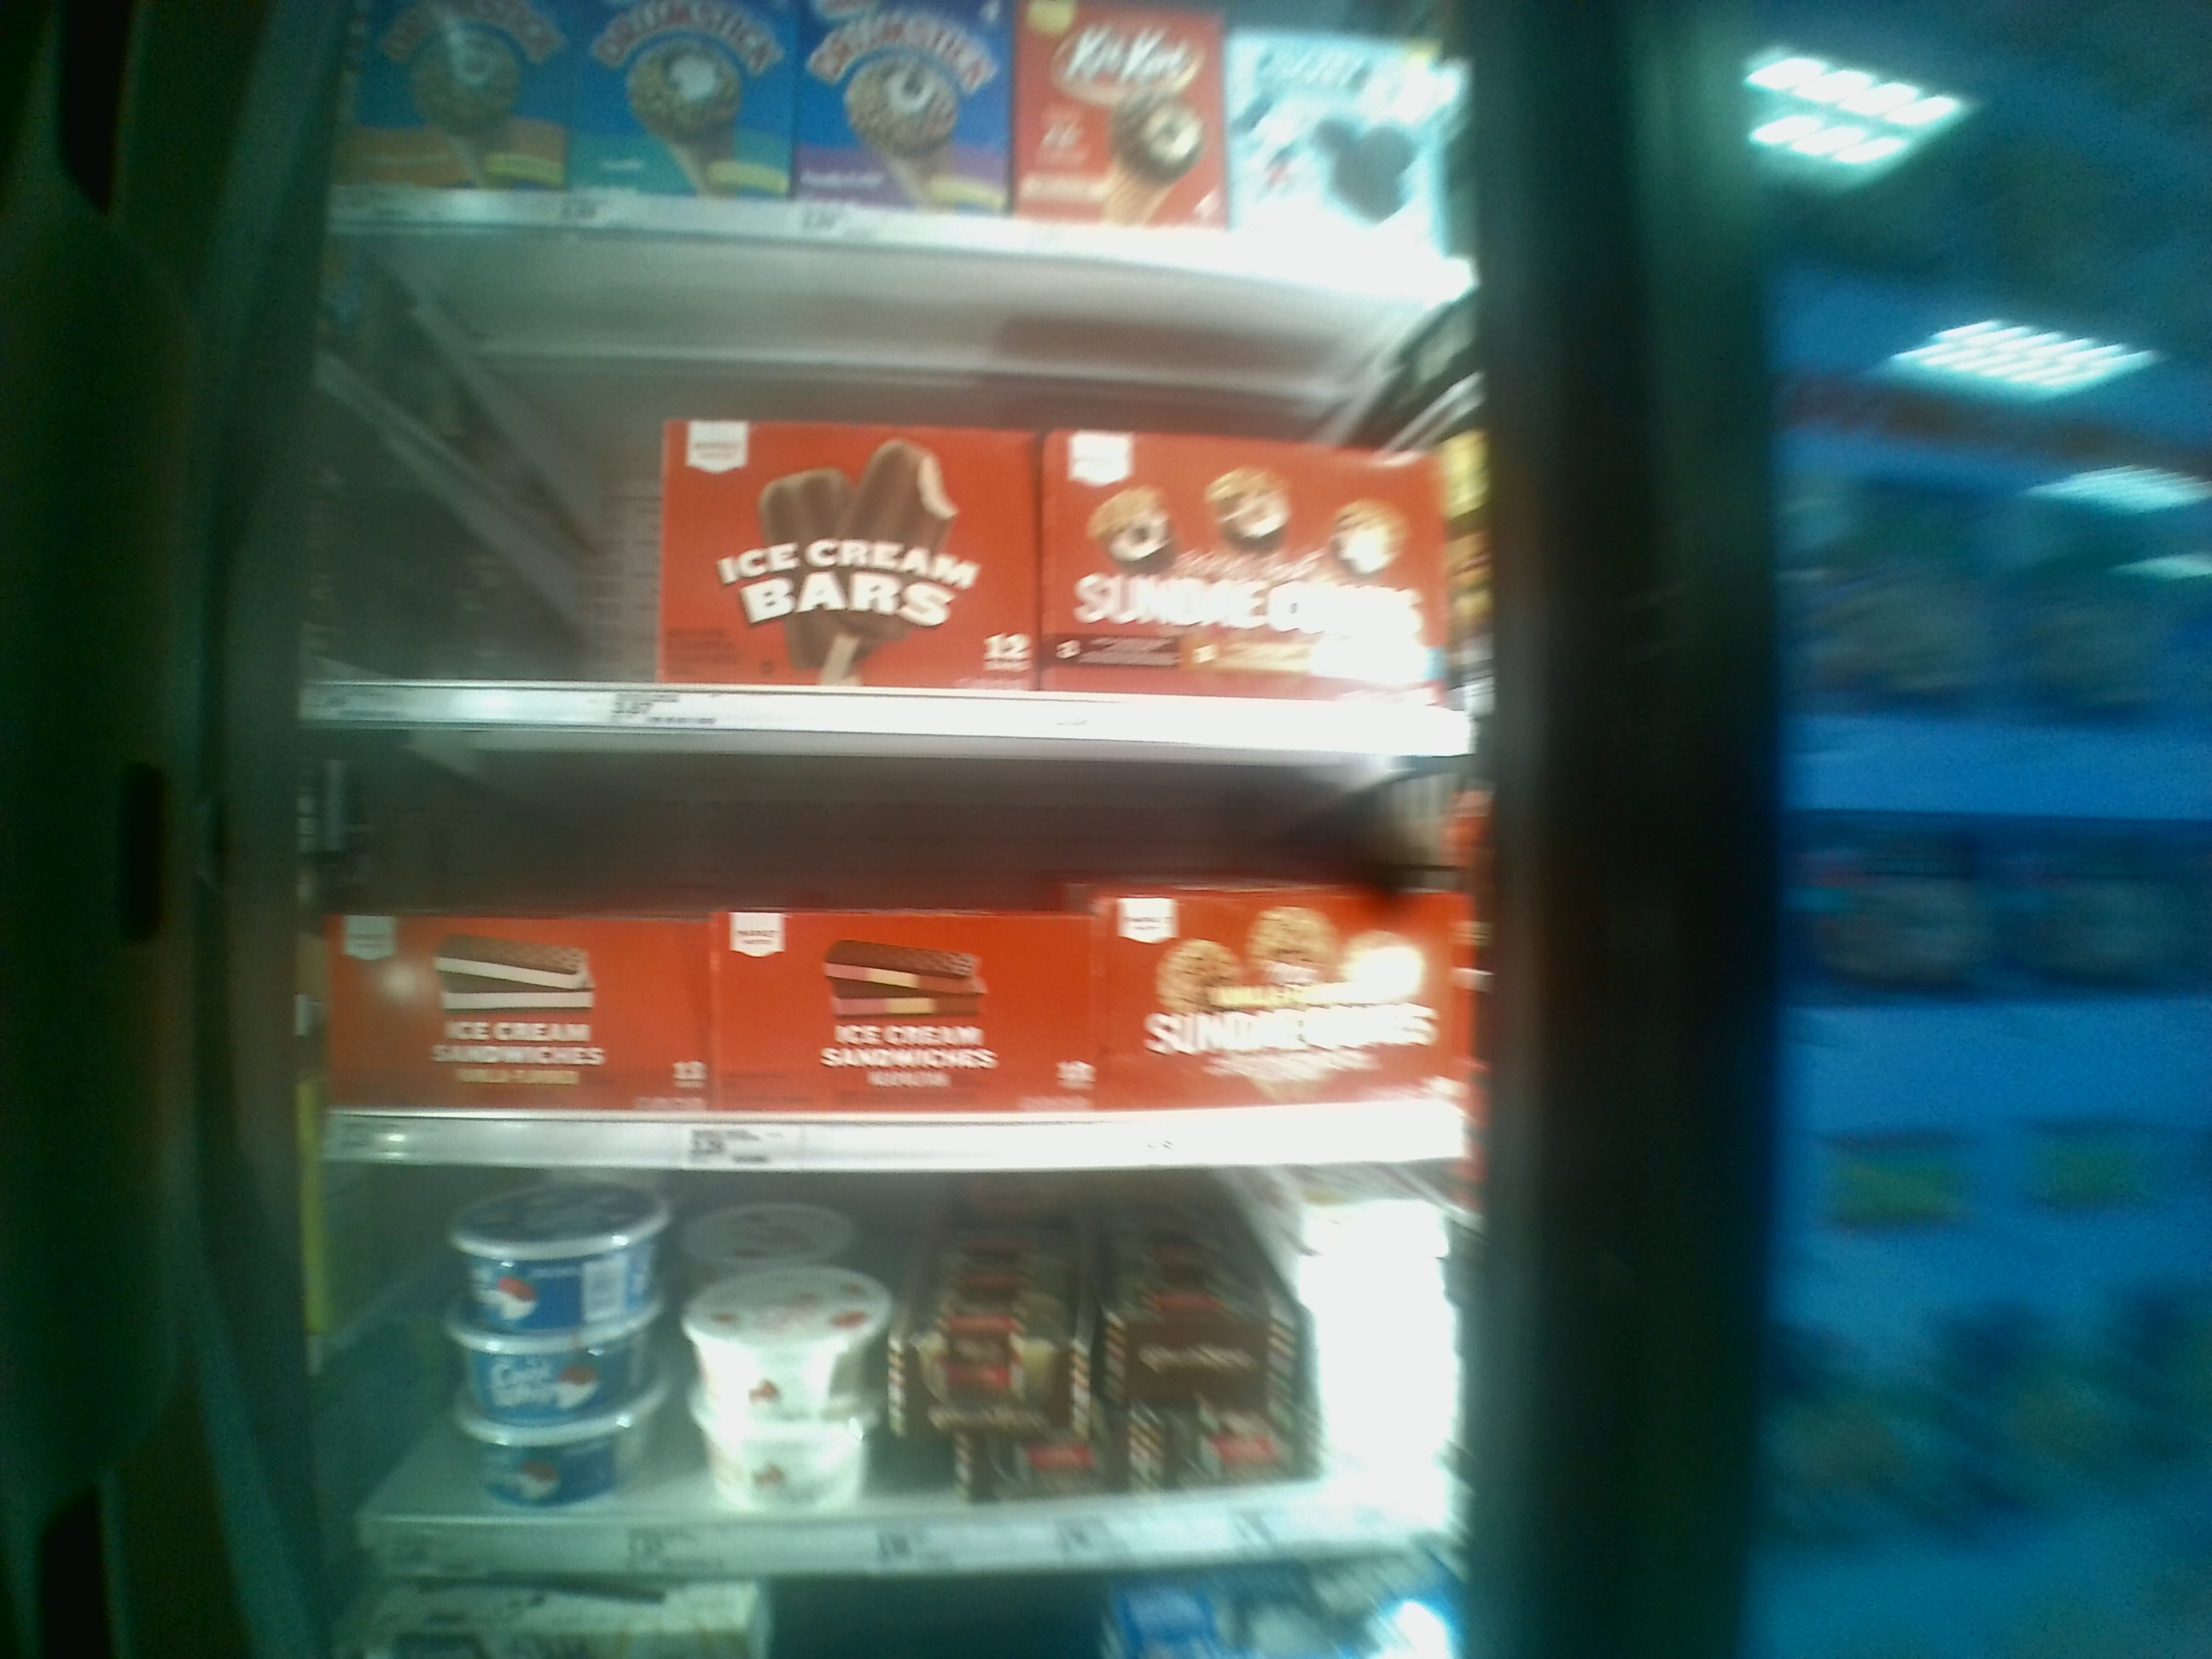shelf: (296, 216, 1493, 746), (294, 734, 1486, 1162), (303, 1168, 1474, 1565)
